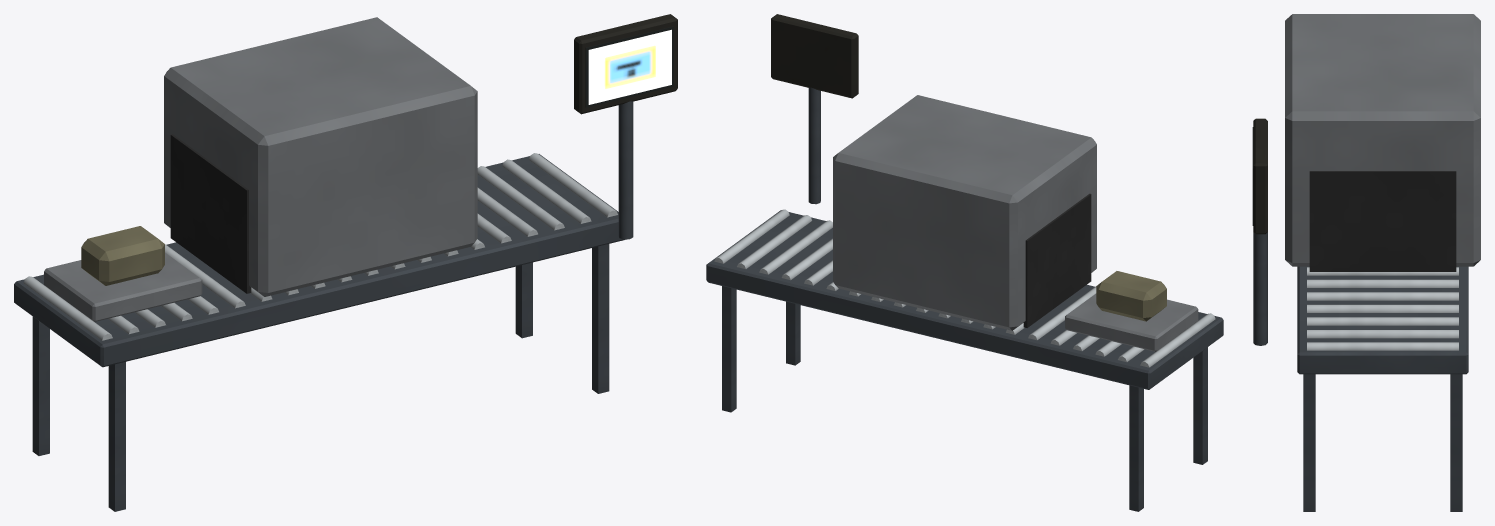
The model's file is xray_scanner.fbx.
The picture shows the model from 3 angles, left to right: view 1: azimuth 30°, elevation 25°; view 2: azimuth 150°, elevation 25°; view 3: azimuth 270°, elevation 25°; orthographic projection. The views are drawn at different scales.
Parts seen in each view (by area): view 1: xray_scanner, xray_scanner_tray, xray_scanner_screen; view 2: xray_scanner, xray_scanner_tray; view 3: xray_scanner.
Boxes of the visible parts, x1,y1,x2,y2 form: xray_scanner: [14, 14, 677, 511]; xray_scanner_tray: [44, 226, 202, 321]; xray_scanner_screen: [588, 29, 671, 104]; xray_scanner: [706, 14, 1223, 511]; xray_scanner_tray: [1065, 271, 1198, 351]; xray_scanner: [1252, 14, 1480, 511].
Size of the model in its own units: 2.53 by 1.66 by 0.935.
Materials: 1 (1 with a texture image).
